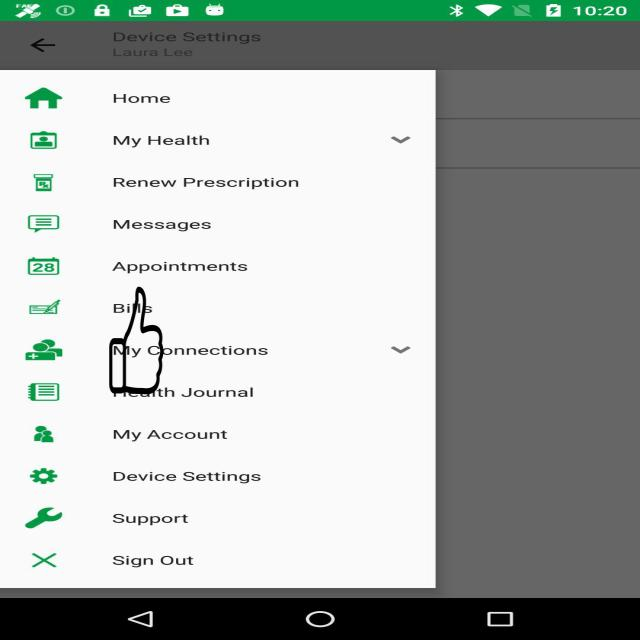privacy zuckering: (109, 287, 164, 394)
